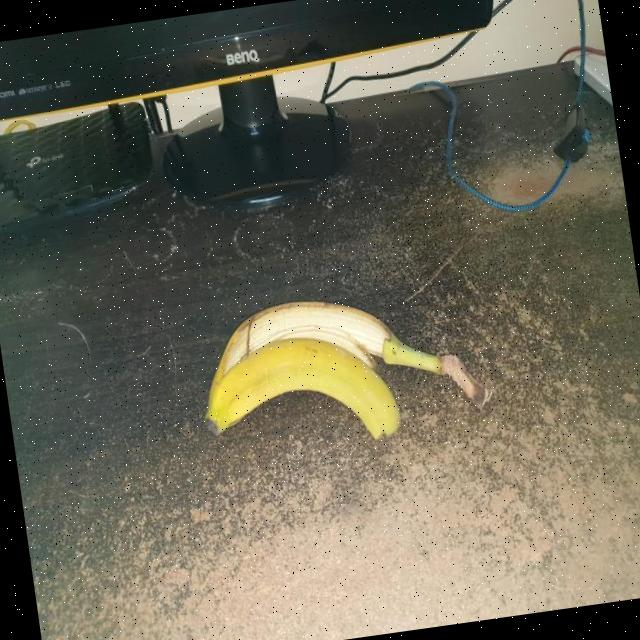banana-peel: (189, 274, 495, 463)
